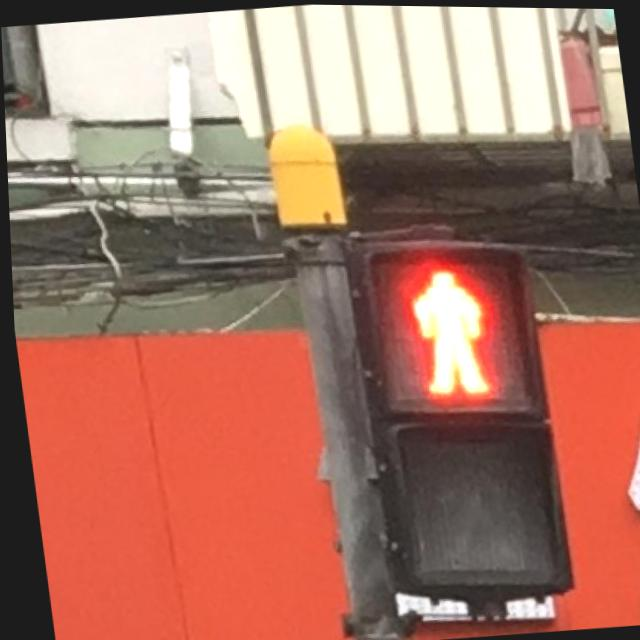red_light: (371, 241, 522, 416)
